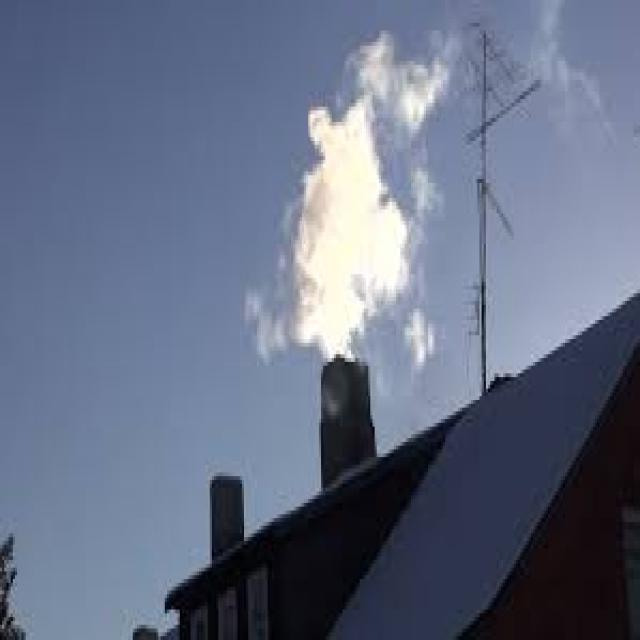Smoke: (243, 0, 451, 368)
